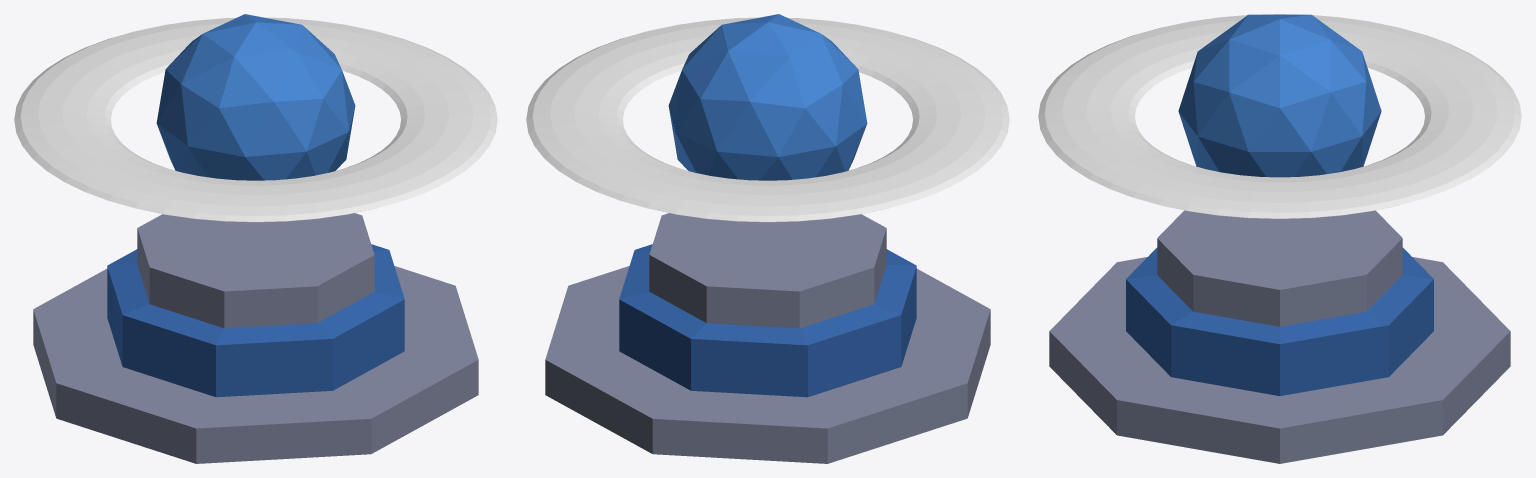
Rendered from StatueWithPlanet.fbx.
3 views of the same model, side by side, from view 1: azimuth 30°, elevation 25°; view 2: azimuth 150°, elevation 25°; view 3: azimuth 270°, elevation 25° (orthographic).
Parts seen in each view (by area): view 1: Cylinder, Torus, Icosphere; view 2: Cylinder, Torus, Icosphere; view 3: Cylinder, Torus, Icosphere.
Part boxes in pixels (x1=…): Cylinder: x1=33, y1=213, x2=478, y2=463; Torus: x1=14, y1=17, x2=497, y2=222; Icosphere: x1=156, y1=14, x2=355, y2=180; Cylinder: x1=545, y1=213, x2=990, y2=463; Torus: x1=526, y1=17, x2=1009, y2=222; Icosphere: x1=668, y1=14, x2=867, y2=180; Cylinder: x1=1049, y1=210, x2=1510, y2=463; Torus: x1=1038, y1=14, x2=1521, y2=218; Icosphere: x1=1178, y1=14, x2=1381, y2=177.
Bounding box in the file's own units: 846 × 671 × 846.
